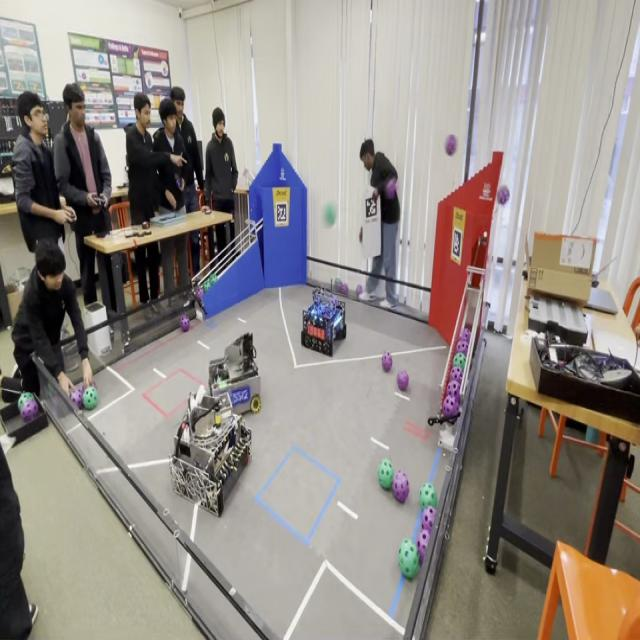artifact_green: (399, 539, 419, 579), (416, 528, 431, 564), (378, 459, 393, 490), (420, 483, 437, 510), (83, 387, 98, 410), (70, 386, 83, 410), (323, 203, 336, 227), (18, 393, 34, 411), (452, 352, 466, 369), (585, 427, 599, 444), (204, 274, 217, 290), (193, 286, 203, 303), (203, 280, 210, 291), (218, 381, 227, 389), (211, 274, 217, 285), (204, 277, 210, 287), (207, 275, 212, 287), (334, 278, 341, 286)
artifact_purple: (393, 471, 409, 503), (416, 529, 430, 565), (20, 400, 39, 421), (442, 395, 459, 418), (421, 507, 435, 532), (71, 385, 84, 409), (445, 134, 457, 156), (397, 370, 409, 391), (497, 185, 509, 205), (447, 380, 460, 398), (385, 179, 396, 199), (382, 352, 392, 372), (450, 367, 463, 382), (456, 341, 468, 355), (460, 328, 471, 343), (194, 286, 204, 302), (180, 316, 189, 331), (340, 283, 349, 295), (336, 281, 343, 295), (356, 284, 363, 296), (78, 383, 85, 394), (90, 379, 97, 388), (334, 278, 341, 287)
